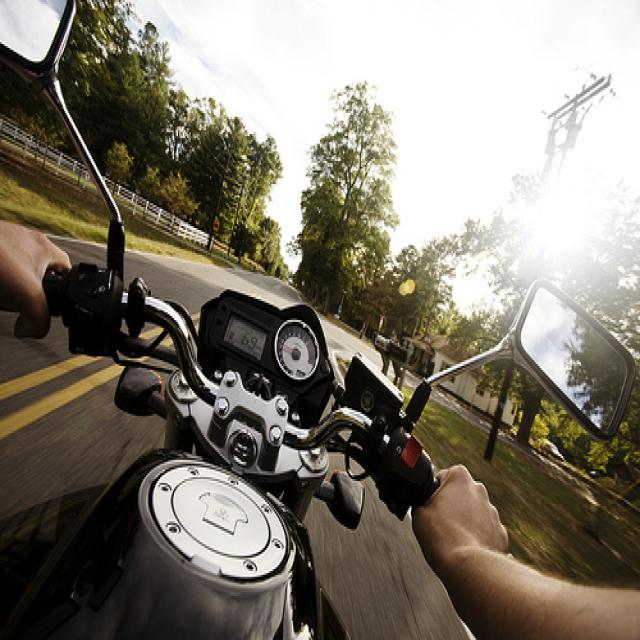motor: (1, 3, 636, 631)
